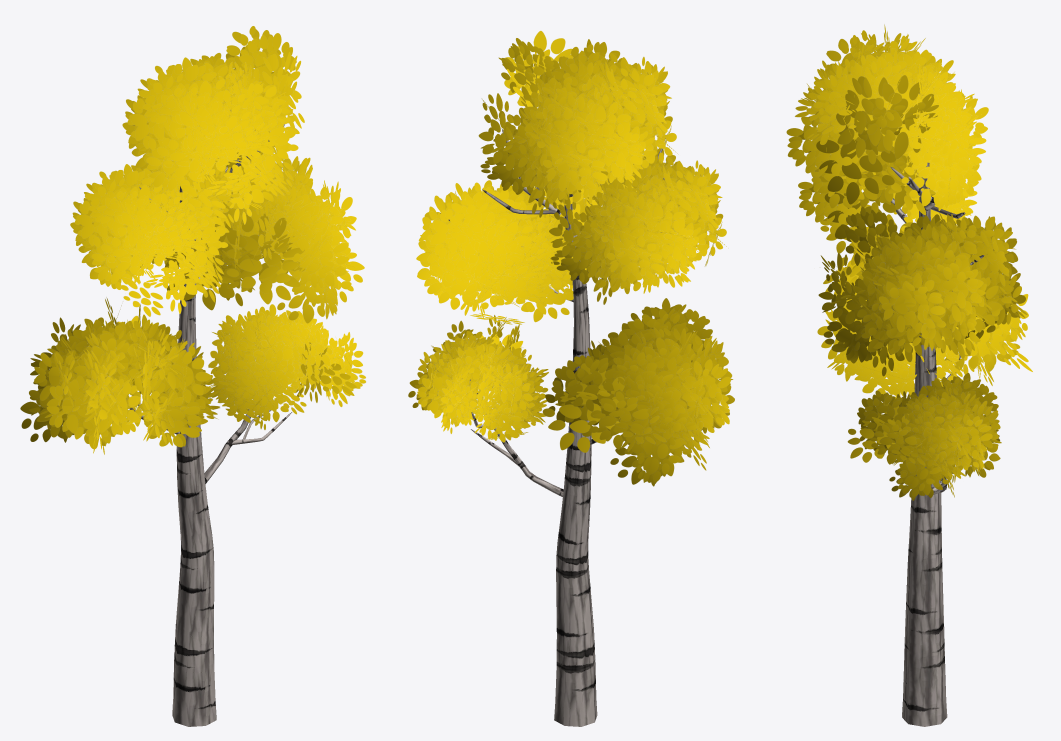
Rendered from BirchTree_1.glb.
3 renders of one model, left to right at view 1: azimuth 30°, elevation 25°; view 2: azimuth 150°, elevation 25°; view 3: azimuth 270°, elevation 25°, orthographic. The views are drawn at different scales.
Visible parts, largest first — view 1: BirchTree_1; view 2: BirchTree_1; view 3: BirchTree_1.
Boxes of the visible parts, <box> form: BirchTree_1: <box>20,26,365,726</box>; BirchTree_1: <box>408,30,734,726</box>; BirchTree_1: <box>786,24,1032,726</box>.
Bounding box in the file's own units: 2.71 × 5.45 × 1.94.
Materials: 2 (2 with a texture image).
